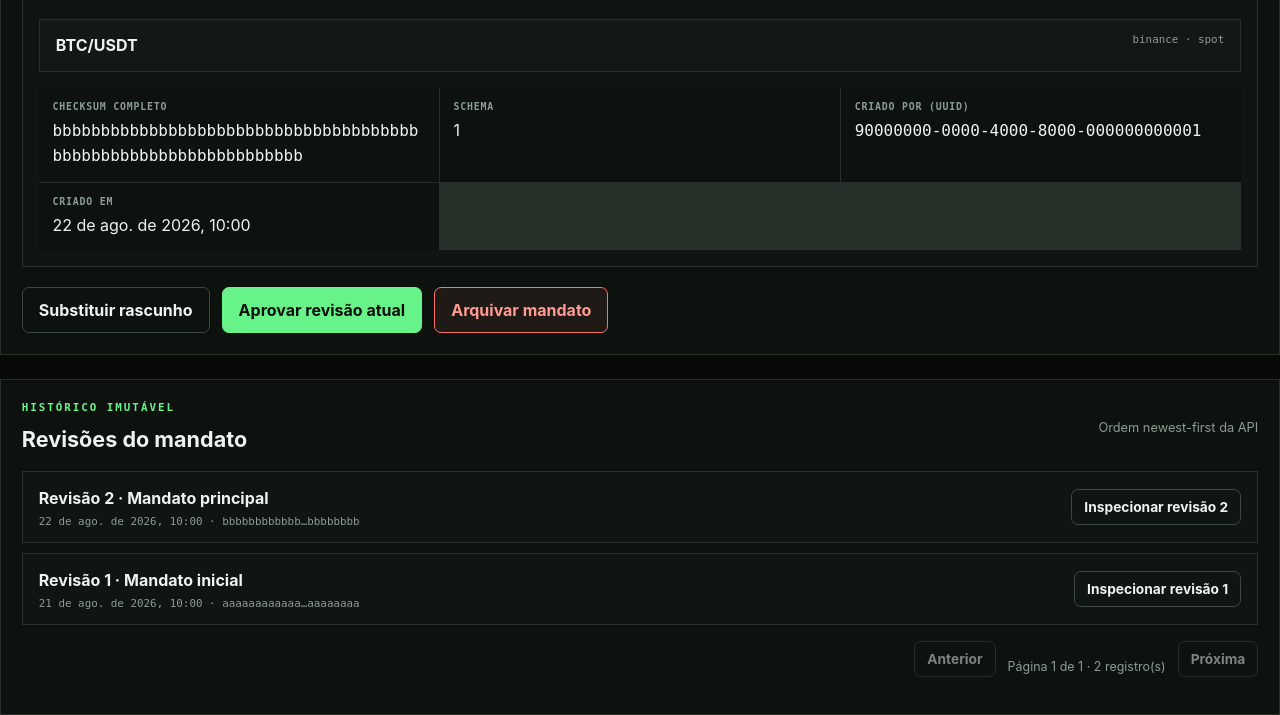
Test: OperationalMandatesPage › preserva a ordem newest-first e inspeciona uma revisão histórica exata
This screenshot has width=1280, height=715.
(page scrolled)
Click the button with aria-label "Inspecionar revisão histórica": [1158, 589] box [1074,571,1241,607]
(page scrolled)
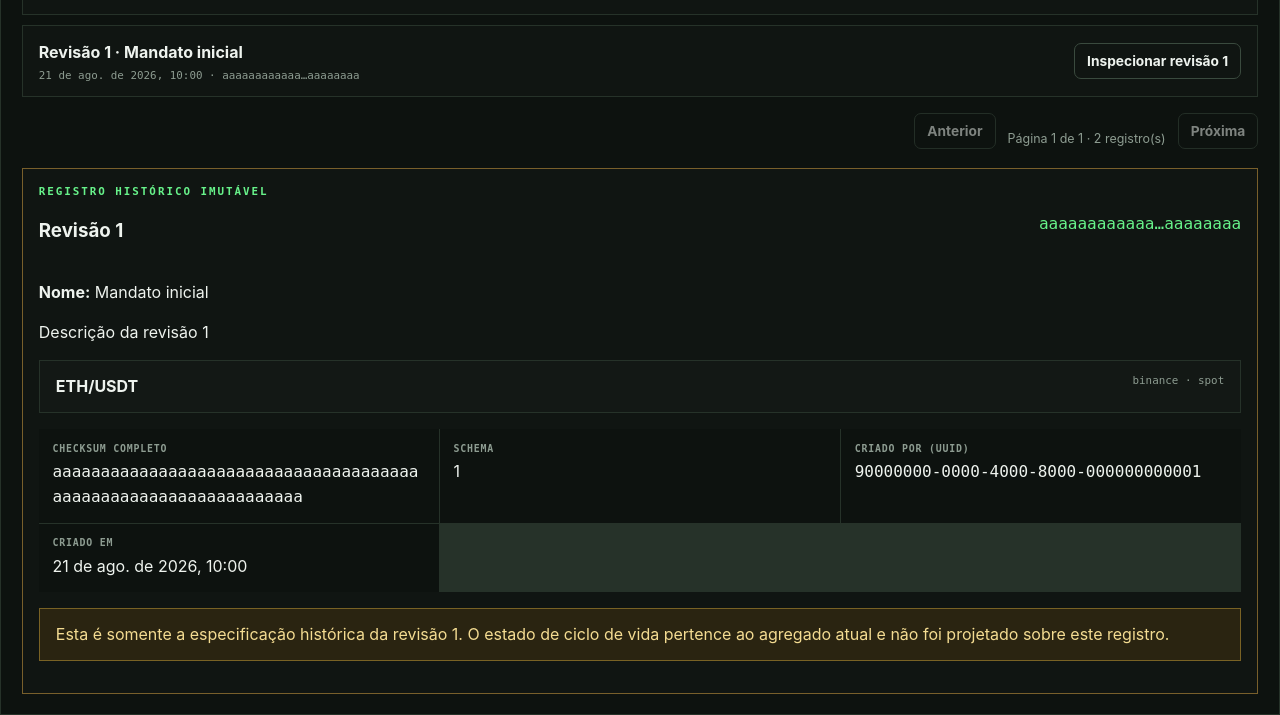
Check: the heading "Revisão 1" is shown, box [39,219,123,242]
Check: the text "ETH/USDT" is shown, box [56,374,138,398]
Check: the text "somente a especificação histórica" is shown, box [56,624,452,644]
